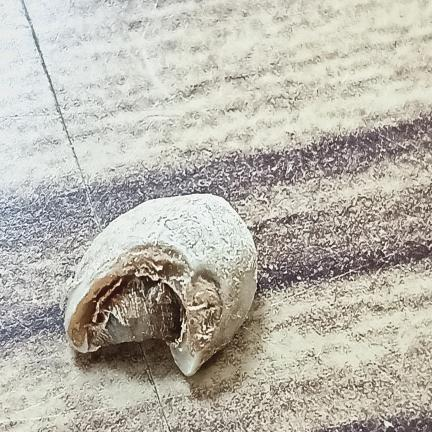cut: (64, 194, 257, 376)
